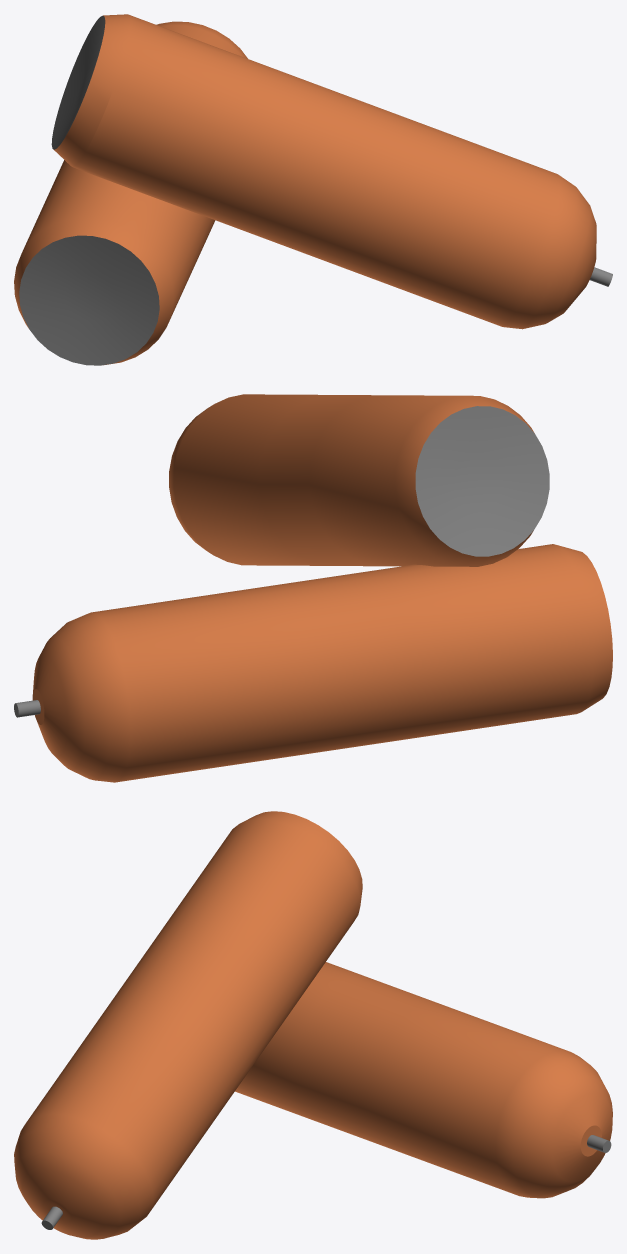
Rendered from TRASH.fbx.
The picture shows the model from 3 angles, top to bottom: view 1: azimuth 30°, elevation 25°; view 2: azimuth 150°, elevation 25°; view 3: azimuth 270°, elevation 25°; orthographic projection. The views are drawn at different scales.
Visible parts, largest first — view 1: Cube; view 2: Cube; view 3: Cube.
Part boxes in pixels (box(x1,y1,x2,y2)): Cube: box(14, 14, 612, 365); Cube: box(14, 394, 612, 782); Cube: box(14, 811, 612, 1239).
Size of the model in its own units: 139 by 81.63 by 156.
